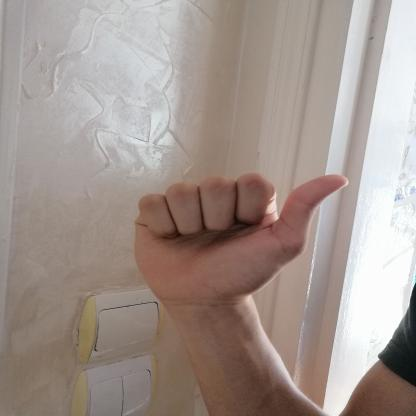DAD: (119, 159, 366, 317)
